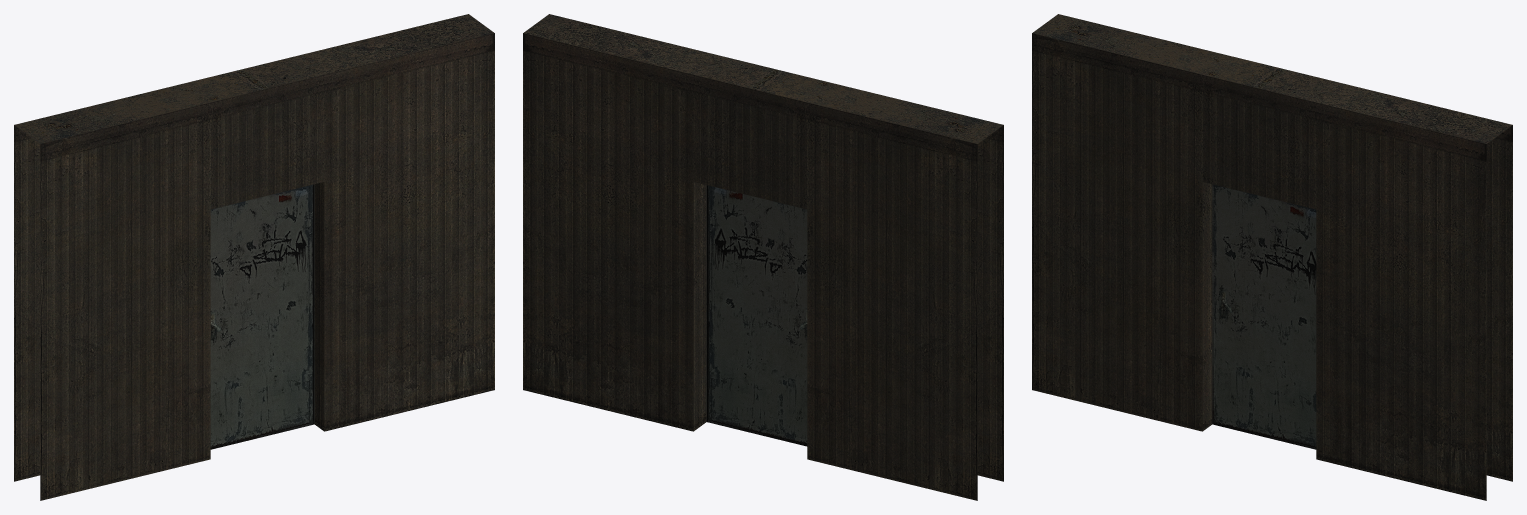
The model's file is doorway_rx_1.glb.
The picture shows the model from 3 angles, left to right: view 1: azimuth 30°, elevation 25°; view 2: azimuth 150°, elevation 25°; view 3: azimuth 330°, elevation 25°; orthographic projection.
Parts seen in each view (by area): view 1: doorway_rx_1, door_hr_11; view 2: doorway_rx_1, door_hr_11; view 3: doorway_rx_1, door_hr_11.
Part boxes in pixels (box(x1,y1,x2,y2)): doorway_rx_1: box(14, 14, 494, 500); door_hr_11: box(210, 184, 314, 449); doorway_rx_1: box(523, 14, 1003, 500); door_hr_11: box(706, 185, 807, 446); doorway_rx_1: box(1032, 14, 1512, 500); door_hr_11: box(1212, 184, 1316, 449).
Bounding box in the file's own units: 4 × 3 × 0.4.
Materials: 3 (3 with a texture image).
